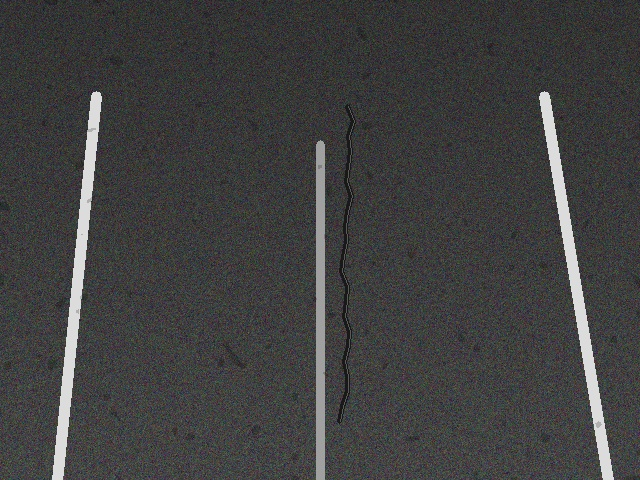D00: (324, 106, 368, 422)
D43: (290, 168, 350, 408)
